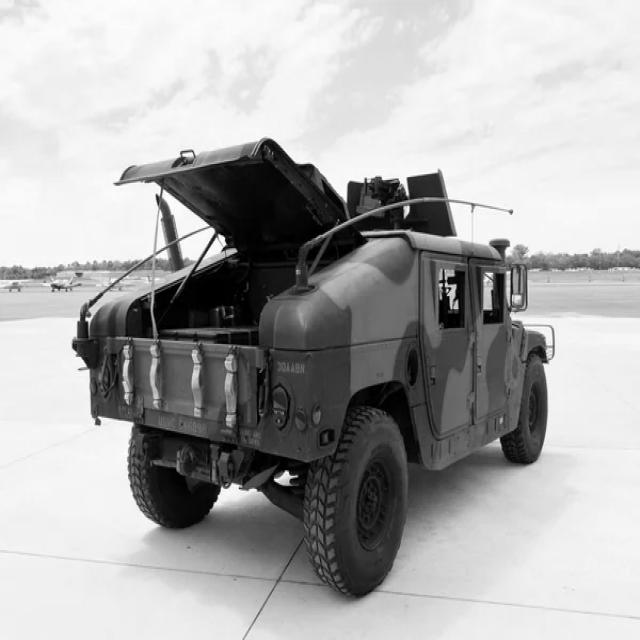Car: (70, 138, 556, 597)
